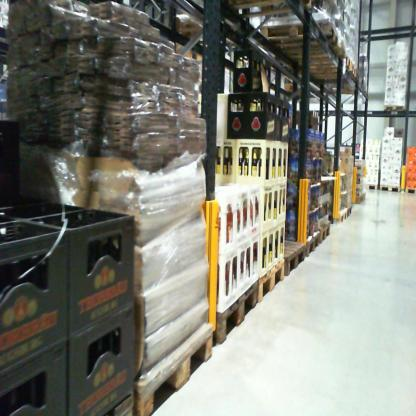pallet: (135, 319, 218, 414), (209, 273, 261, 355), (257, 20, 340, 54), (214, 1, 316, 26), (285, 46, 352, 72), (172, 13, 225, 44), (276, 230, 306, 279), (259, 255, 285, 310), (96, 393, 139, 414), (299, 230, 320, 260), (381, 99, 408, 116), (317, 217, 332, 246), (335, 204, 348, 228), (378, 183, 402, 194), (342, 201, 355, 220), (361, 179, 378, 192), (404, 184, 416, 197)
